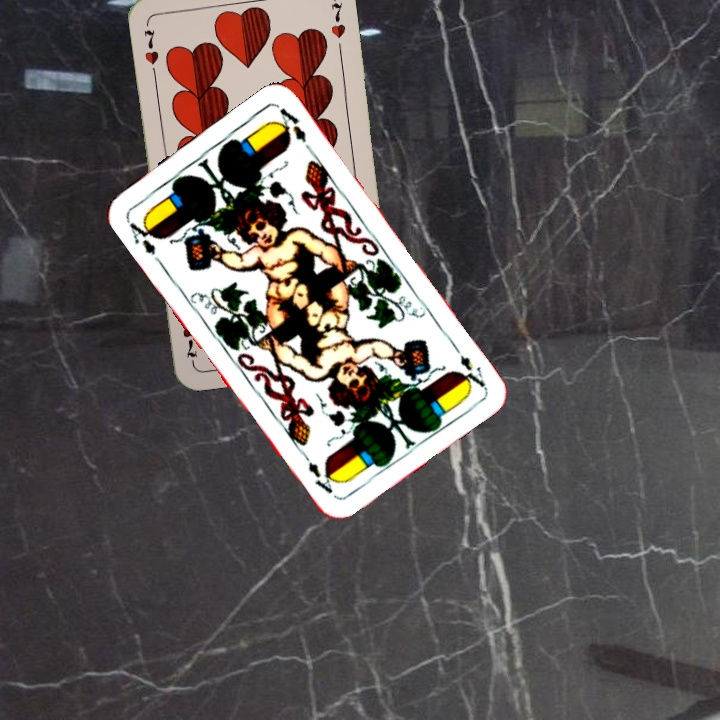EA: (447, 338, 489, 392), (123, 214, 164, 266)
H7: (139, 25, 162, 67)
